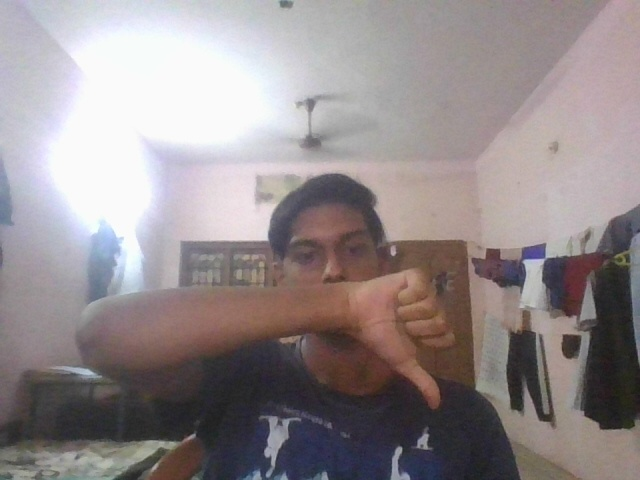thumbsdown: (333, 265, 468, 412)
